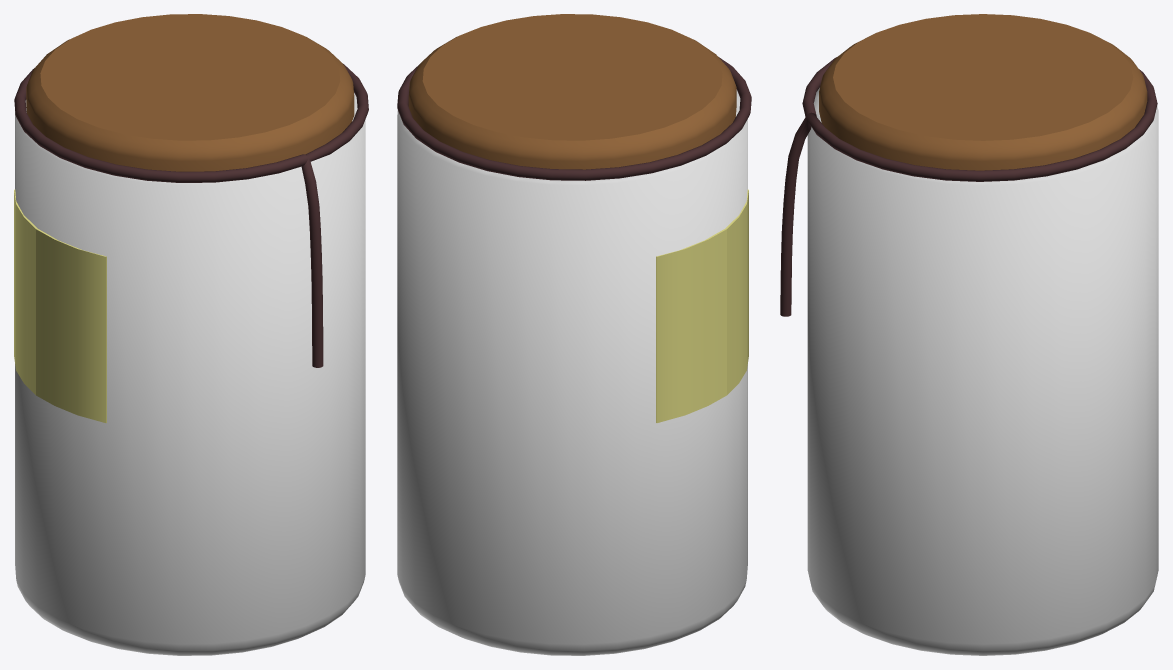
The model's file is tipjar.fbx.
3 renders of one model, left to right at view 1: azimuth 30°, elevation 25°; view 2: azimuth 150°, elevation 25°; view 3: azimuth 270°, elevation 25°, orthographic.
Visible parts, largest first — view 1: Cylinder, Cylinder.001, Cube, Cylinder.002; view 2: Cylinder, Cylinder.001, Cube, Cylinder.002; view 3: Cylinder, Cylinder.001, Cylinder.002.
Part boxes in pixels (x1,y1,x2,y2): Cylinder: [15, 93, 365, 655]; Cylinder.001: [26, 14, 354, 171]; Cube: [14, 189, 106, 422]; Cylinder.002: [14, 64, 368, 367]; Cylinder: [397, 89, 747, 655]; Cylinder.001: [408, 14, 736, 169]; Cube: [656, 189, 748, 422]; Cylinder.002: [397, 57, 751, 180]; Cylinder: [807, 87, 1158, 655]; Cylinder.001: [819, 14, 1147, 170]; Cylinder.002: [780, 57, 1157, 316].
Bounding box in the file's own units: 202 × 321 × 216.
